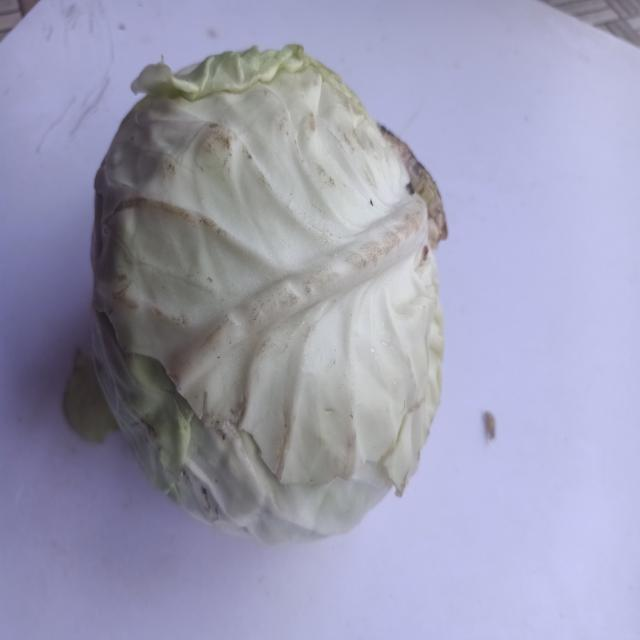Cabbage: (46, 29, 484, 576)
